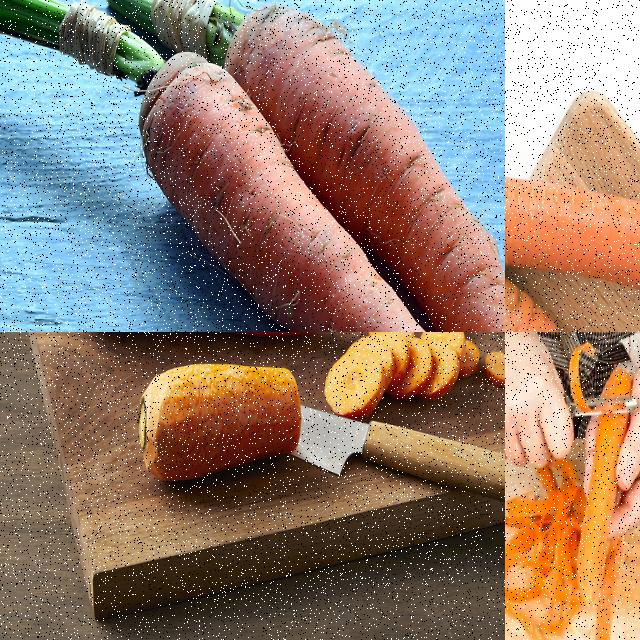carrot: (138, 49, 504, 331), (220, 3, 504, 331), (505, 132, 639, 317), (140, 362, 302, 479), (319, 332, 504, 422), (576, 362, 636, 609), (505, 257, 639, 331)
